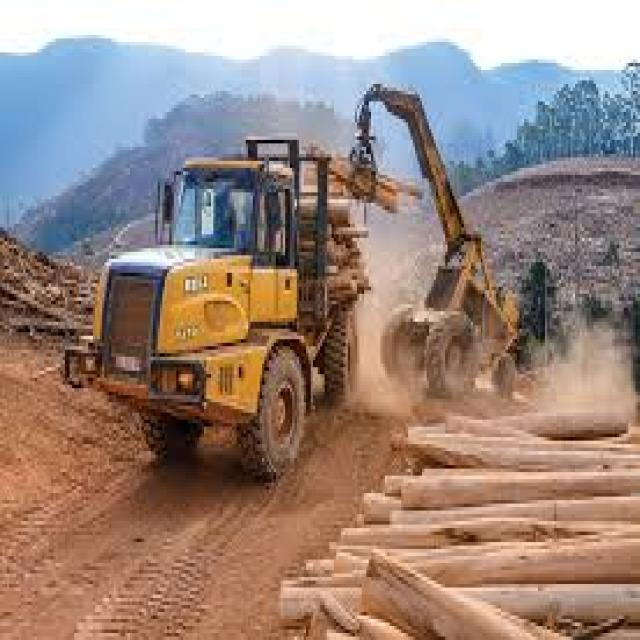dump_truck: (51, 112, 369, 469)
